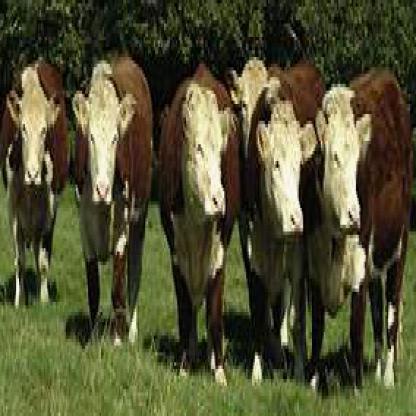cow: (314, 67, 413, 386), (158, 61, 242, 383), (249, 57, 324, 386), (72, 50, 154, 346), (2, 57, 67, 305)
